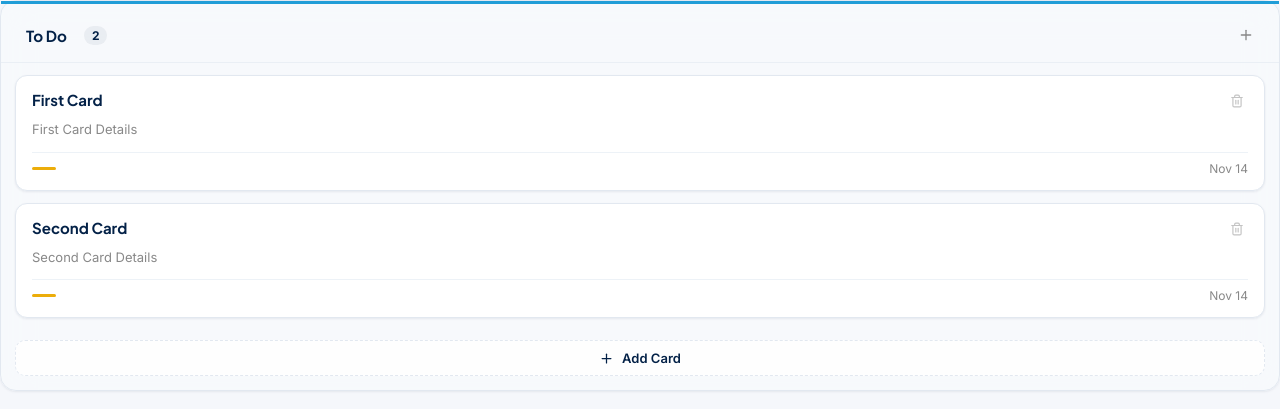
Test: ColumnView Component › cancels inline editing on Escape key without renaming
Click the heading with test id "column-title-col-todo" at (46, 35), box [26, 26, 67, 44]
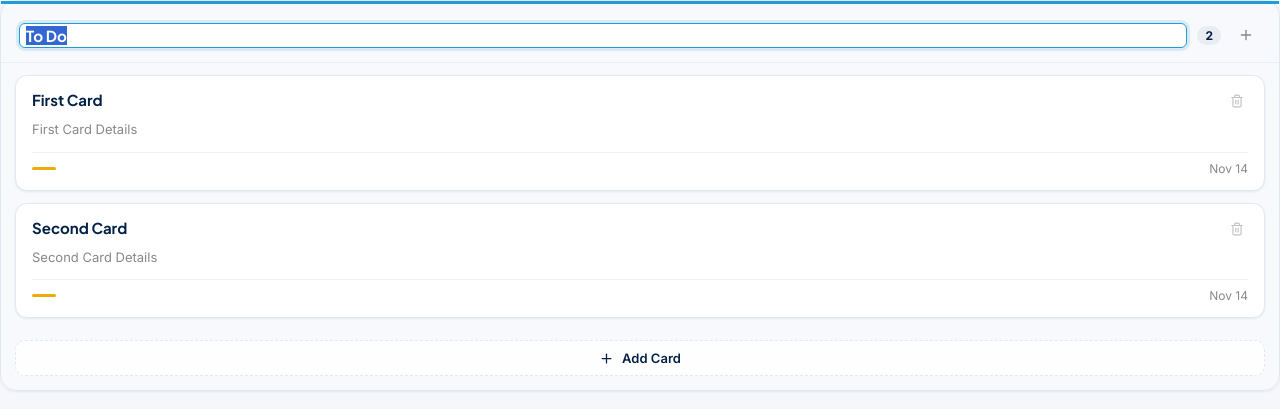
Replace the text in the field with test id "column-title-input-col-todo" with "Cancelled Title" at (603, 35), box [19, 22, 1187, 48]
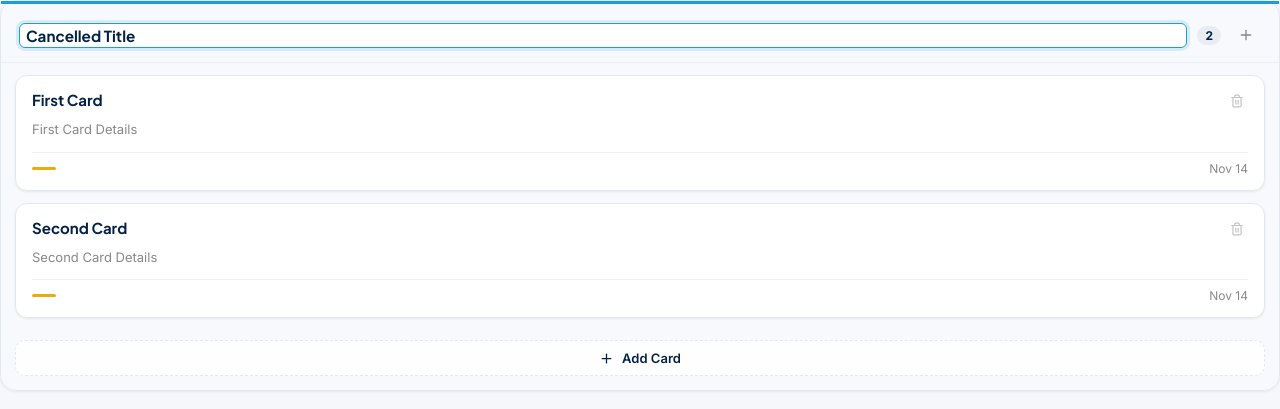
Press Escape in the field with test id "column-title-input-col-todo", box [19, 22, 1187, 48]
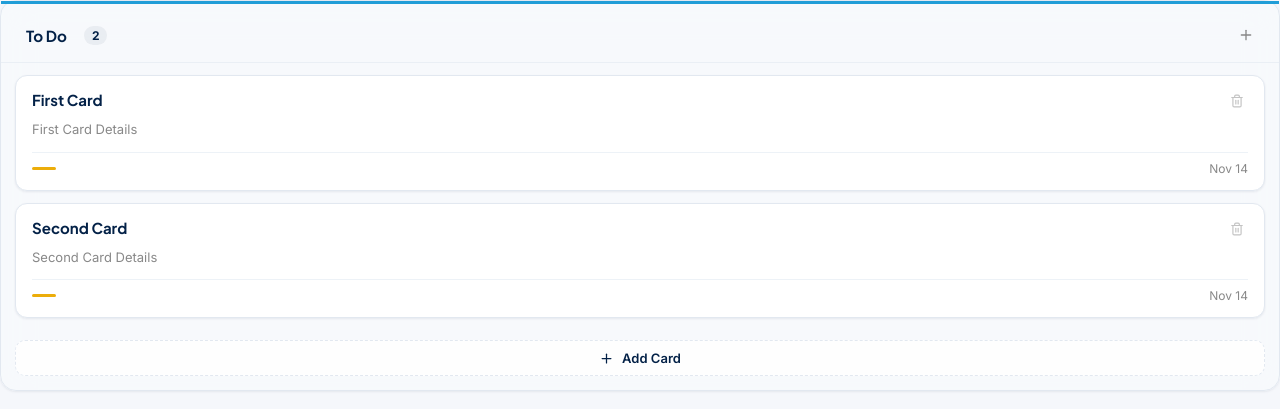
Check: the heading with test id "column-title-col-todo" reads "To Do", box [26, 26, 67, 44]
